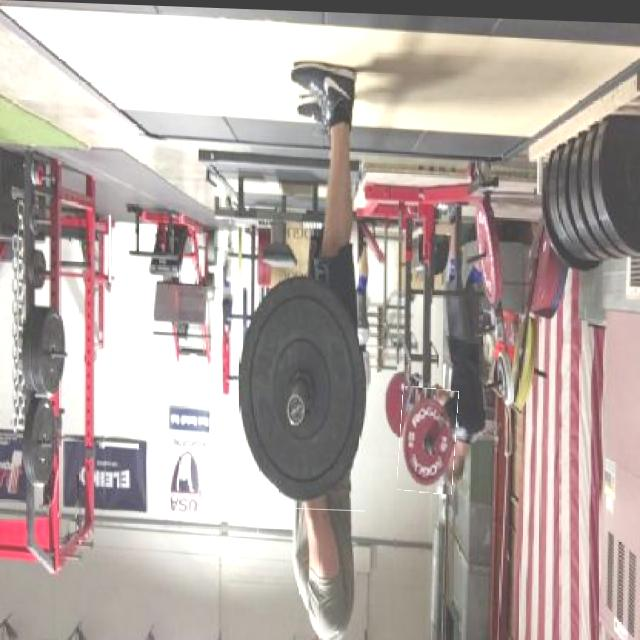barbell: (234, 267, 366, 509), (399, 384, 458, 491)
